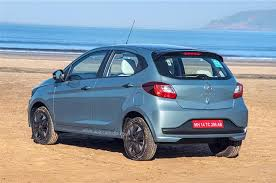Tiago: (25, 40, 250, 164)
